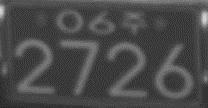0: (55, 7, 84, 34)
2: (105, 40, 148, 99), (13, 37, 55, 94)
6: (153, 42, 195, 100), (86, 9, 116, 35)
7: (59, 39, 99, 96)
주: (119, 10, 148, 36)
